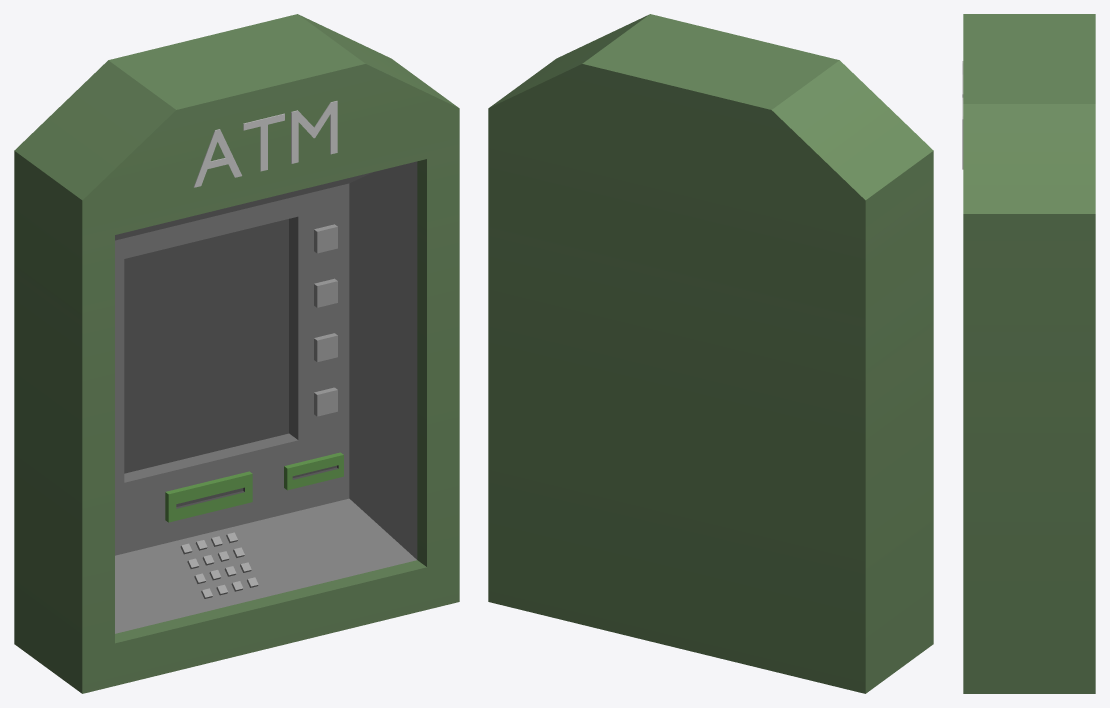
Rendered from ATM_01.fbx.
The picture shows the model from 3 angles, left to right: view 1: azimuth 30°, elevation 25°; view 2: azimuth 150°, elevation 25°; view 3: azimuth 270°, elevation 25°; orthographic projection. The views are drawn at different scales.
Visible parts, largest first — view 1: ATM_01; view 2: ATM_01; view 3: ATM_01.
Part boxes in pixels (box(x1,y1,x2,y2)): ATM_01: box(14, 14, 459, 693); ATM_01: box(488, 14, 933, 693); ATM_01: box(962, 14, 1095, 693).
Size of the model in its own units: 61.42 by 87.28 by 19.33.
